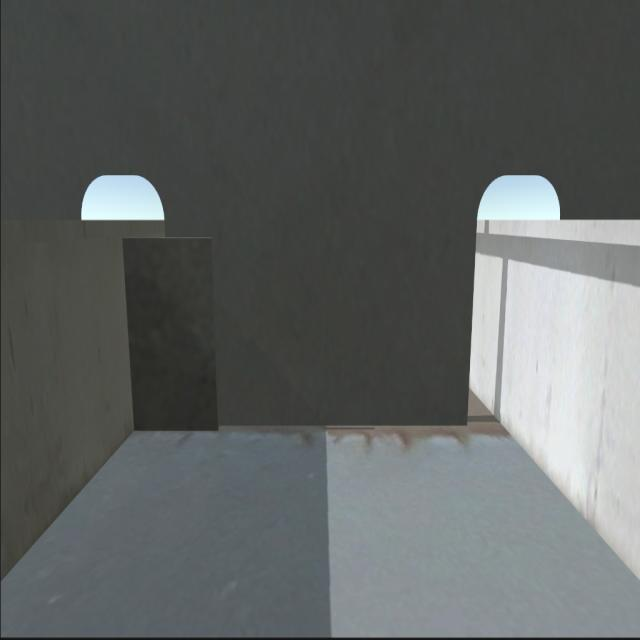fillet_yong_jeop_jang: (129, 421, 473, 435)
longi_yong_jeop_jang: (118, 244, 144, 428)
plate_CP01: (122, 236, 223, 434)
